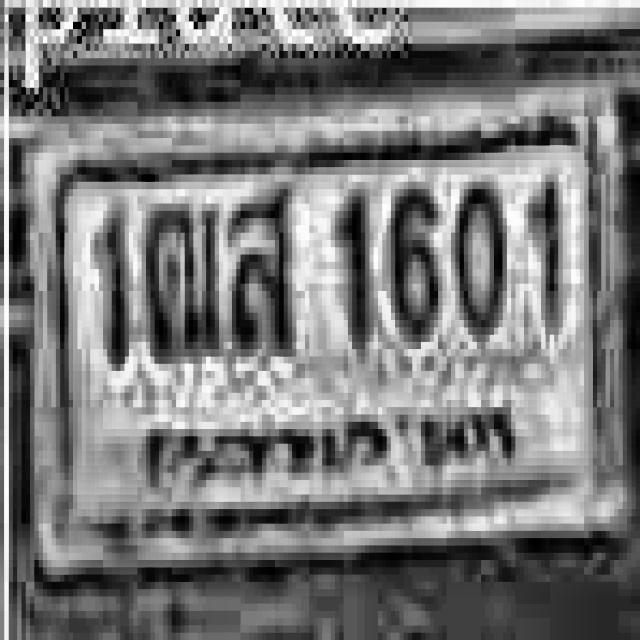license-plate: (21, 88, 640, 568)
